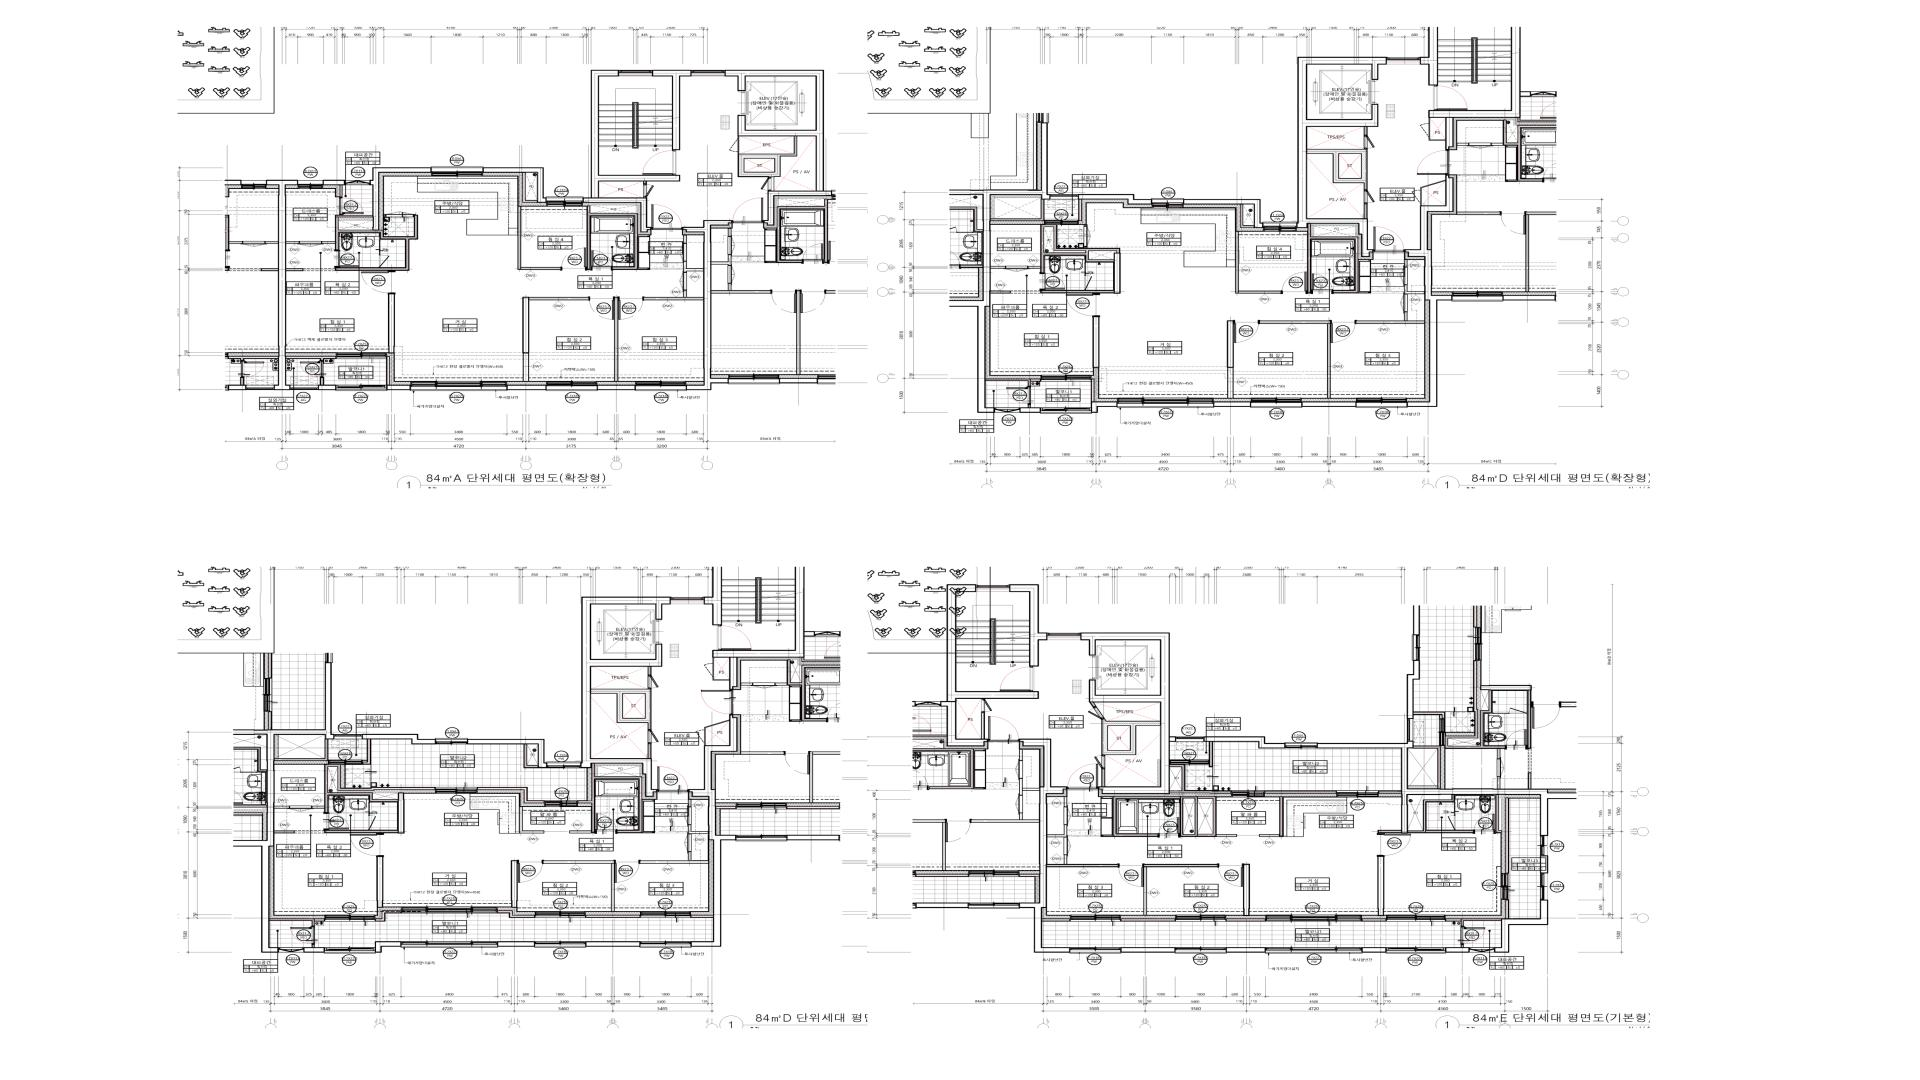door: (717, 625, 752, 650), (642, 150, 676, 175), (651, 202, 682, 229), (1373, 227, 1404, 253), (1067, 764, 1098, 790), (1377, 833, 1411, 857), (1000, 667, 1034, 691), (658, 766, 688, 793), (1435, 86, 1468, 109), (1067, 294, 1100, 318), (351, 833, 384, 857), (361, 272, 396, 294), (617, 297, 645, 320), (615, 860, 641, 884), (517, 860, 543, 884), (1233, 320, 1261, 343), (1218, 864, 1244, 887), (1118, 864, 1143, 887), (589, 297, 615, 320), (1331, 320, 1357, 343), (1282, 272, 1307, 294), (562, 248, 587, 270), (1461, 926, 1486, 945), (1006, 386, 1031, 405), (290, 926, 315, 944), (334, 249, 359, 268), (1039, 273, 1065, 290), (323, 812, 349, 829), (1312, 273, 1333, 294), (595, 814, 617, 833), (1158, 818, 1180, 837), (339, 198, 364, 215), (1474, 814, 1495, 833), (591, 251, 612, 270), (299, 361, 323, 377), (1085, 707, 1105, 720), (729, 136, 740, 154), (647, 674, 659, 688), (644, 182, 654, 198), (1364, 136, 1375, 149), (1364, 190, 1375, 203), (1084, 224, 1091, 248), (647, 729, 658, 744), (761, 177, 771, 191), (1006, 265, 1029, 272), (290, 806, 313, 812), (1095, 756, 1105, 769), (981, 699, 992, 712), (378, 255, 389, 268), (1448, 814, 1456, 829), (299, 241, 322, 247), (1084, 276, 1092, 290), (368, 815, 376, 829)
wall: (1316, 741, 1548, 836), (582, 596, 671, 796), (1298, 57, 1387, 257), (725, 70, 832, 225), (977, 190, 1051, 413), (261, 731, 334, 953), (583, 70, 680, 232), (1081, 633, 1176, 794), (947, 584, 1039, 746), (1428, 3, 1522, 150), (712, 543, 804, 690), (1404, 175, 1455, 407), (688, 715, 737, 947), (1019, 738, 1071, 953), (682, 220, 733, 390), (266, 179, 298, 390), (522, 297, 589, 381), (1261, 320, 1331, 398), (324, 765, 435, 812), (335, 215, 418, 272), (578, 764, 642, 833), (1113, 796, 1217, 837), (1040, 224, 1121, 273), (369, 167, 431, 231), (1143, 864, 1217, 915), (543, 861, 615, 913), (1307, 224, 1358, 294), (587, 206, 638, 270), (651, 70, 691, 150), (1420, 3, 1458, 86), (704, 543, 742, 625), (1010, 584, 1047, 667), (1494, 899, 1548, 953), (1236, 232, 1282, 294), (518, 207, 562, 270), (1408, 795, 1474, 833), (467, 738, 547, 769), (1308, 149, 1367, 190), (1183, 199, 1263, 228), (483, 167, 546, 203), (1101, 719, 1160, 756), (1170, 765, 1232, 794), (990, 199, 1044, 222), (1042, 227, 1085, 253), (274, 740, 328, 761), (1204, 736, 1286, 749), (477, 787, 545, 803), (1047, 855, 1118, 868), (361, 733, 436, 745), (640, 852, 708, 864), (1357, 313, 1424, 324), (1077, 194, 1153, 204), (520, 806, 545, 833), (1420, 179, 1445, 206), (645, 290, 704, 301), (1226, 320, 1234, 398), (1338, 154, 1361, 178), (642, 799, 655, 833), (522, 173, 537, 203), (376, 857, 384, 907), (1092, 318, 1100, 368), (388, 294, 394, 353), (1378, 857, 1385, 915), (1429, 117, 1445, 141), (1121, 947, 1176, 953), (269, 919, 314, 927), (986, 378, 1031, 386), (524, 745, 538, 769), (1240, 204, 1254, 228), (1244, 864, 1250, 915), (615, 298, 618, 381), (375, 942, 402, 953), (375, 910, 402, 922), (397, 793, 405, 833), (510, 860, 517, 907), (497, 910, 535, 918), (1506, 798, 1510, 873), (585, 942, 641, 947), (324, 829, 398, 833), (1040, 290, 1114, 294), (1302, 402, 1357, 407), (1265, 790, 1337, 794), (1091, 402, 1117, 413), (1114, 253, 1121, 294), (286, 356, 336, 361), (1461, 919, 1501, 926), (1047, 824, 1067, 837), (1495, 795, 1502, 833), (683, 261, 703, 273), (363, 740, 372, 765), (506, 385, 547, 390), (1279, 796, 1284, 837), (1225, 948, 1266, 953), (688, 824, 708, 835), (597, 385, 636, 390), (497, 942, 535, 947), (1213, 402, 1251, 407), (1404, 285, 1424, 294), (1362, 947, 1387, 953), (1445, 947, 1470, 953), (1120, 919, 1176, 922), (585, 915, 641, 918), (303, 947, 324, 953), (1540, 856, 1548, 873), (386, 385, 411, 390), (1077, 199, 1083, 222), (1019, 407, 1042, 413), (386, 356, 390, 385), (1225, 919, 1267, 922), (981, 712, 985, 738), (1209, 742, 1213, 767), (318, 385, 336, 390), (335, 215, 372, 218), (1378, 829, 1402, 833), (1378, 790, 1402, 794), (323, 181, 345, 185), (1091, 378, 1095, 401), (990, 290, 1011, 294), (1506, 899, 1510, 919), (1042, 919, 1071, 922), (1361, 919, 1387, 922), (1101, 769, 1105, 786), (690, 915, 713, 918), (1364, 203, 1367, 219), (570, 831, 591, 833), (274, 831, 294, 833), (1259, 835, 1279, 837), (1217, 835, 1237, 837), (339, 186, 343, 198), (286, 269, 303, 272), (319, 377, 324, 385), (274, 806, 290, 808), (1445, 919, 1461, 922), (1089, 703, 1097, 708), (1031, 378, 1042, 382), (990, 266, 1006, 269), (683, 235, 687, 244), (1364, 127, 1367, 136), (286, 241, 299, 244), (322, 241, 335, 244), (313, 806, 324, 808), (1101, 835, 1113, 837), (1101, 796, 1113, 799), (688, 799, 692, 807), (1404, 260, 1408, 268), (1029, 266, 1040, 269), (1064, 796, 1067, 807), (315, 919, 324, 922), (363, 760, 367, 762), (311, 944, 315, 947), (1027, 405, 1031, 407), (1461, 945, 1464, 947)
window: (411, 381, 506, 392), (1117, 398, 1213, 407), (402, 942, 497, 948), (402, 907, 497, 914), (1266, 915, 1361, 922), (431, 166, 483, 177), (636, 381, 686, 392), (547, 381, 596, 392), (1266, 948, 1362, 953), (1357, 398, 1407, 407), (1251, 398, 1302, 407), (546, 196, 583, 207), (1042, 375, 1091, 382), (1387, 915, 1445, 922), (1263, 222, 1298, 232), (641, 942, 691, 948), (535, 911, 585, 918), (535, 942, 585, 948), (1176, 947, 1226, 953), (1071, 915, 1121, 922), (336, 352, 386, 359), (336, 385, 386, 392), (1040, 407, 1091, 414), (1337, 790, 1378, 798), (641, 911, 690, 918), (326, 915, 375, 922), (1176, 915, 1225, 922), (1153, 198, 1183, 208), (1387, 948, 1445, 953), (435, 787, 477, 794), (324, 948, 375, 953), (1071, 948, 1121, 953), (1387, 57, 1420, 65), (1232, 790, 1265, 798), (1501, 874, 1510, 899), (547, 762, 582, 769), (1458, 4, 1491, 11), (742, 543, 775, 550), (545, 800, 578, 807), (671, 597, 704, 604), (1047, 633, 1080, 640), (976, 585, 1009, 592), (1170, 760, 1209, 765), (1540, 874, 1548, 901), (1286, 742, 1316, 749), (298, 181, 323, 189), (328, 760, 363, 765), (436, 738, 467, 744), (1540, 836, 1548, 856), (290, 385, 318, 390), (335, 735, 361, 740), (1051, 194, 1077, 199), (1044, 220, 1079, 224), (996, 407, 1019, 413), (1176, 737, 1204, 741), (278, 948, 303, 952), (1470, 948, 1494, 952), (345, 181, 369, 185)
